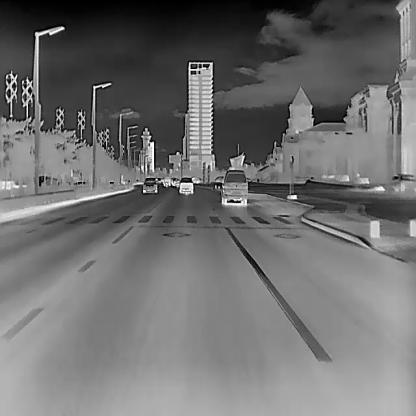car: (220, 168, 247, 204), (142, 176, 157, 193), (178, 176, 192, 194), (163, 175, 169, 186)
